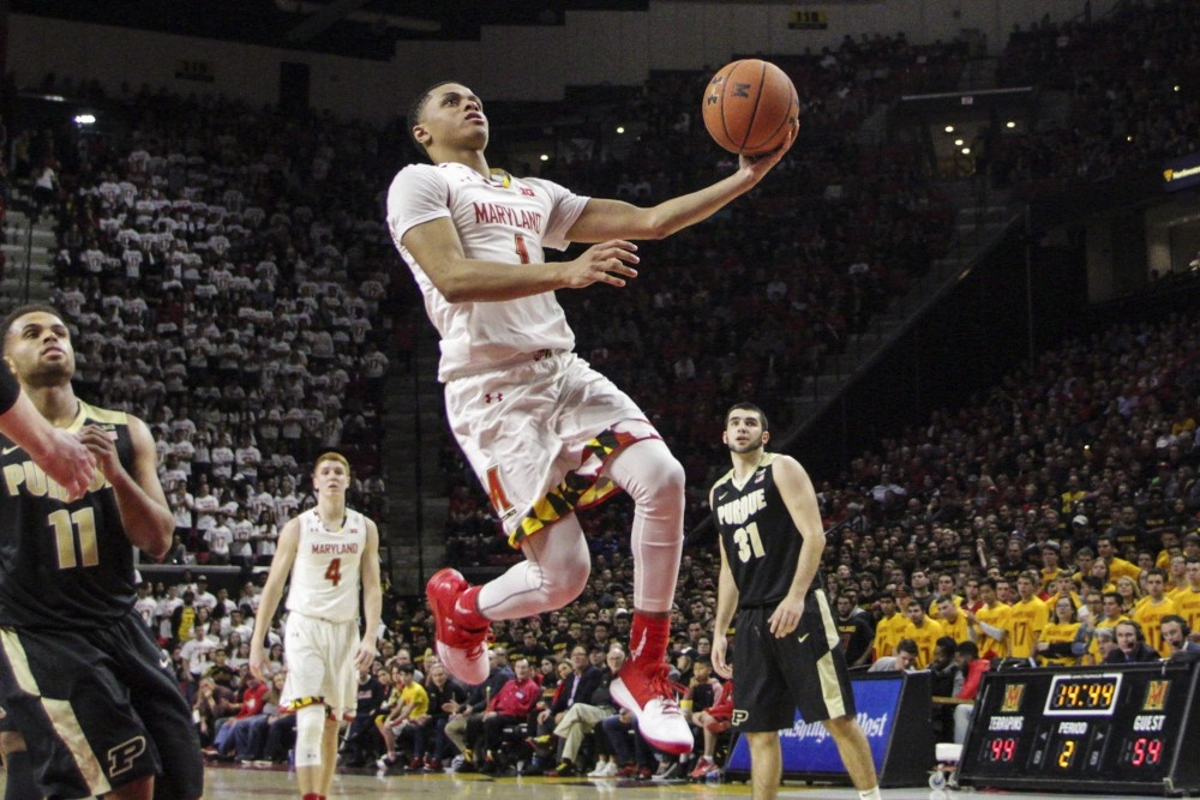ball: (701, 66, 797, 156)
player: (391, 85, 698, 735), (15, 320, 213, 800), (705, 419, 873, 797), (271, 465, 381, 790)
